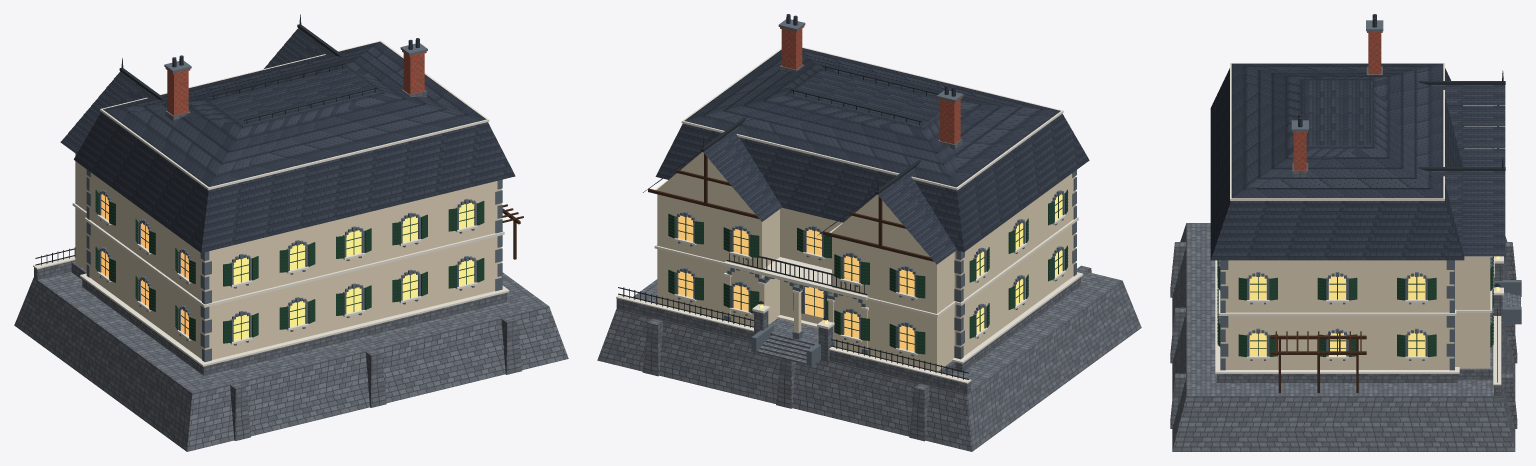
The model's file is fv_sna_07_suong_nguyet_anh_villa_24_mansard_manor.glb.
3 views of the same model, side by side, from view 1: azimuth 30°, elevation 25°; view 2: azimuth 150°, elevation 25°; view 3: azimuth 270°, elevation 25° (orthographic).
Parts seen in each view (by area): view 1: Normandy_Brittany_Layered_Roof, Foundation_Skirt_Neg3p5m, Villa_Stucco_Walls, Molded_Cornices_And_Sills, PineGreen_Louvered_Shutters, Stone_Quoins_And_Arches, Warm_Night_Windows_20h00_Blend, Brick_Chimney_Stacks, Wrought_Iron_Balustrades_And_Gate, Roof_Ridges_Caps_And_Finials; view 2: Normandy_Brittany_Layered_Roof, Foundation_Skirt_Neg3p5m, Villa_Stucco_Walls, Molded_Cornices_And_Sills, Stone_Quoins_And_Arches, PineGreen_Louvered_Shutters, Warm_Night_Windows_20h00_Blend, Wrought_Iron_Balustrades_And_Gate, Exposed_Timber_Trusses_And_Rafters, Brick_Chimney_Stacks, Roof_Ridges_Caps_And_Finials; view 3: Normandy_Brittany_Layered_Roof, Foundation_Skirt_Neg3p5m, Villa_Stucco_Walls, Molded_Cornices_And_Sills, Stone_Quoins_And_Arches, PineGreen_Louvered_Shutters, Warm_Night_Windows_20h00_Blend, Exposed_Timber_Trusses_And_Rafters, Brick_Chimney_Stacks, Roof_Ridges_Caps_And_Finials.
Part boxes in pixels (x1,y1,x2,y2): Normandy_Brittany_Layered_Roof: (60,28,515,252); Foundation_Skirt_Neg3p5m: (14,89,568,451); Villa_Stucco_Walls: (75,153,501,359); Molded_Cornices_And_Sills: (33,40,509,366); PineGreen_Louvered_Shutters: (95,189,484,343); Stone_Quoins_And_Arches: (86,43,502,361); Warm_Night_Windows_20h00_Blend: (101,194,474,340); Brick_Chimney_Stacks: (165,50,426,115); Wrought_Iron_Balustrades_And_Gate: (35,63,377,265); Roof_Ridges_Caps_And_Finials: (119,14,344,100); Normandy_Brittany_Layered_Roof: (645,14,1089,264); Foundation_Skirt_Neg3p5m: (597,64,1141,451); Villa_Stucco_Walls: (656,152,1075,371); Molded_Cornices_And_Sills: (616,47,1083,383); Stone_Quoins_And_Arches: (675,19,1076,366); PineGreen_Louvered_Shutters: (668,189,1068,354); Warm_Night_Windows_20h00_Blend: (678,194,1062,351); Wrought_Iron_Balustrades_And_Gate: (618,66,968,379); Exposed_Timber_Trusses_And_Rafters: (648,154,933,261); Brick_Chimney_Stacks: (780,26,962,144); Roof_Ridges_Caps_And_Finials: (643,117,921,235); Normandy_Brittany_Layered_Roof: (1210,14,1505,260); Foundation_Skirt_Neg3p5m: (1170,66,1520,451); Villa_Stucco_Walls: (1221,126,1490,369); Molded_Cornices_And_Sills: (1215,63,1503,385); Stone_Quoins_And_Arches: (1218,20,1521,370); PineGreen_Louvered_Shutters: (1217,148,1493,356); Warm_Night_Windows_20h00_Blend: (1249,256,1499,356); Exposed_Timber_Trusses_And_Rafters: (1270,105,1498,392); Brick_Chimney_Stacks: (1292,31,1382,170); Roof_Ridges_Caps_And_Finials: (1418,70,1505,170).
Bounding box in the file's own units: 28.32 × 20.7 × 22.32.
Materials: 12 (3 with a texture image).
